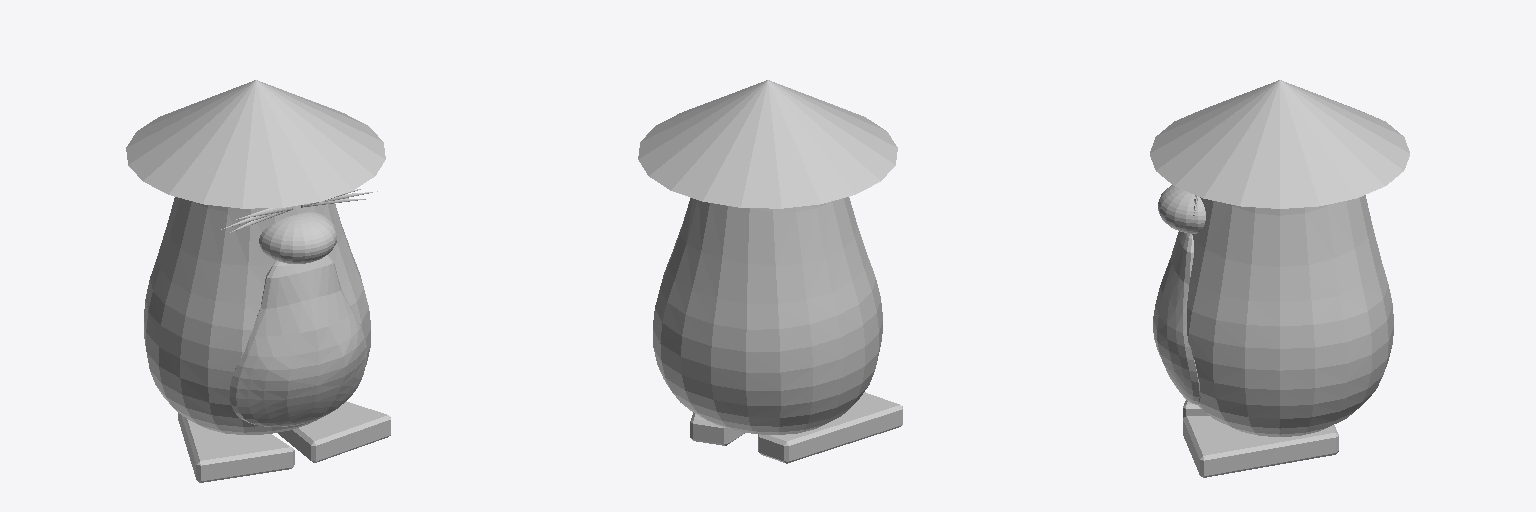
Rendered from bodyS.obj.
3 renders of one model, left to right at view 1: azimuth 30°, elevation 25°; view 2: azimuth 150°, elevation 25°; view 3: azimuth 270°, elevation 25°, orthographic.
Visible parts, largest first — view 1: body; view 2: body; view 3: body.
Boxes of the visible parts, box(x1,y1,x2,y2) form: body: box(126, 80, 390, 482); body: box(638, 80, 902, 463); body: box(1150, 80, 1409, 477).
Bounding box in the file's own units: 1.6 × 2.38 × 1.6.